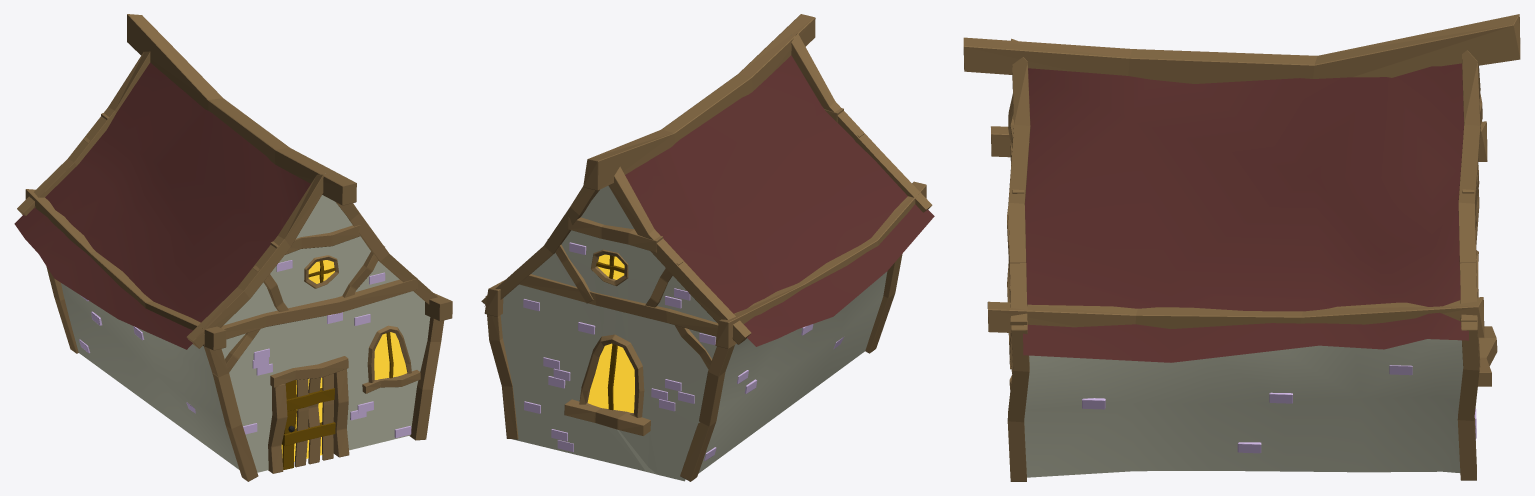
The model's file is lowPolyCottage.glb.
3 renders of one model, left to right at view 1: azimuth 30°, elevation 25°; view 2: azimuth 150°, elevation 25°; view 3: azimuth 270°, elevation 25°, orthographic. The views are drawn at different scales.
Visible parts, largest first — view 1: Roof, WoodenBeamsLight, PlasterWalls, WoodenBeamsDark, Bricks, LightEmittors; view 2: Roof, PlasterWalls, WoodenBeamsLight, Bricks, LightEmittors, WoodenBeamsDark; view 3: Roof, PlasterWalls, WoodenBeamsLight, Bricks.
Boxes of the visible parts, x1,y1,x2,y2 form: Roof: [14, 62, 310, 349]; WoodenBeamsLight: [17, 14, 452, 481]; PlasterWalls: [61, 173, 430, 472]; WoodenBeamsDark: [282, 260, 393, 469]; Bricks: [79, 260, 411, 437]; LightEmittors: [281, 260, 407, 461]; Roof: [484, 55, 934, 346]; PlasterWalls: [500, 185, 887, 481]; WoodenBeamsLight: [481, 14, 932, 481]; Bricks: [523, 242, 843, 460]; LightEmittors: [587, 254, 634, 412]; WoodenBeamsDark: [596, 255, 624, 410]; Roof: [1023, 63, 1468, 362]; PlasterWalls: [1024, 339, 1463, 477]; WoodenBeamsLight: [963, 14, 1520, 481]; Bricks: [1082, 365, 1476, 453].
Bounding box in the file's own units: 3.69 × 3.77 × 4.74.
